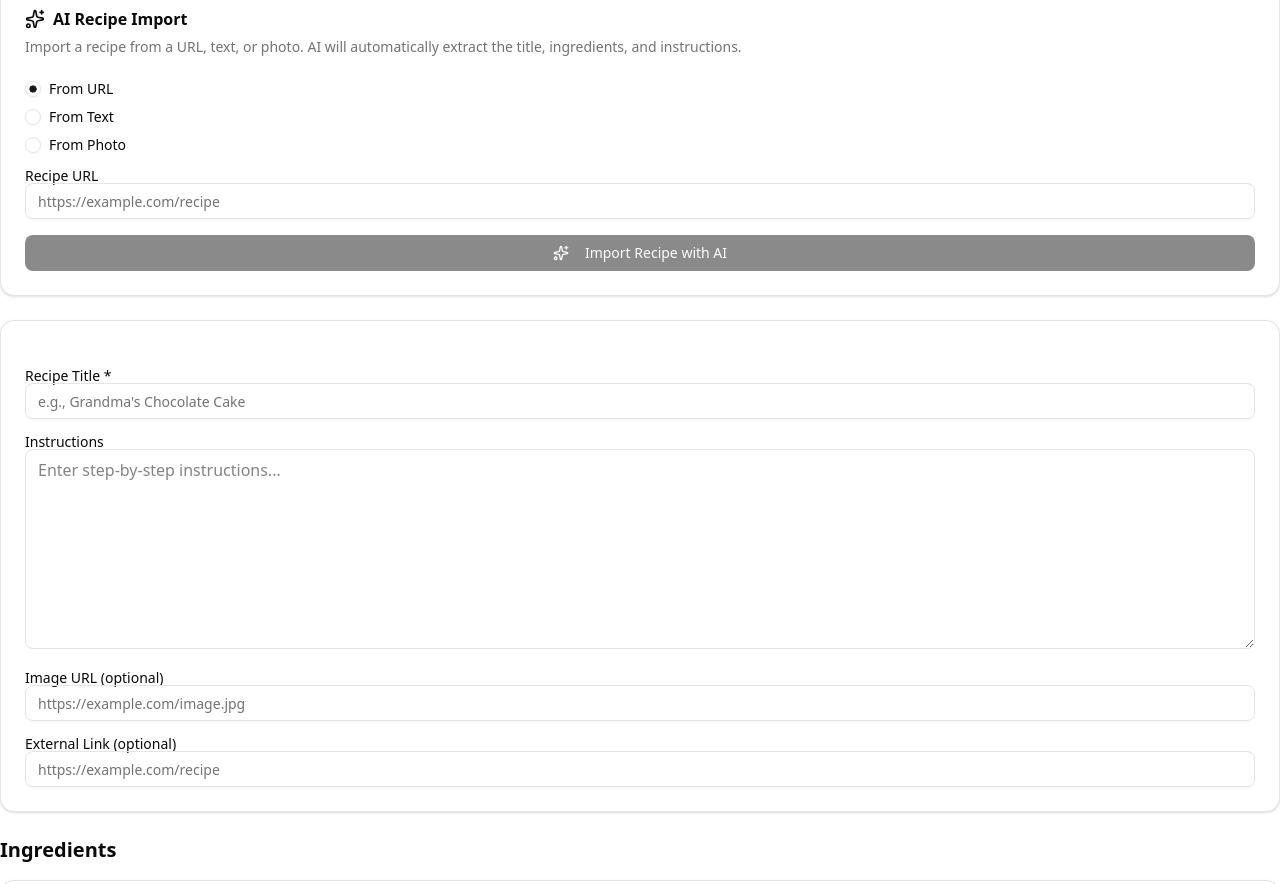
Test: RecipeForm › Error Handling › shows loading state when saving recipe
Type "Test Recipe" into the field labelled "Recipe Title *" at (640, 401), box [25,383,1255,419]
(page scrolled)
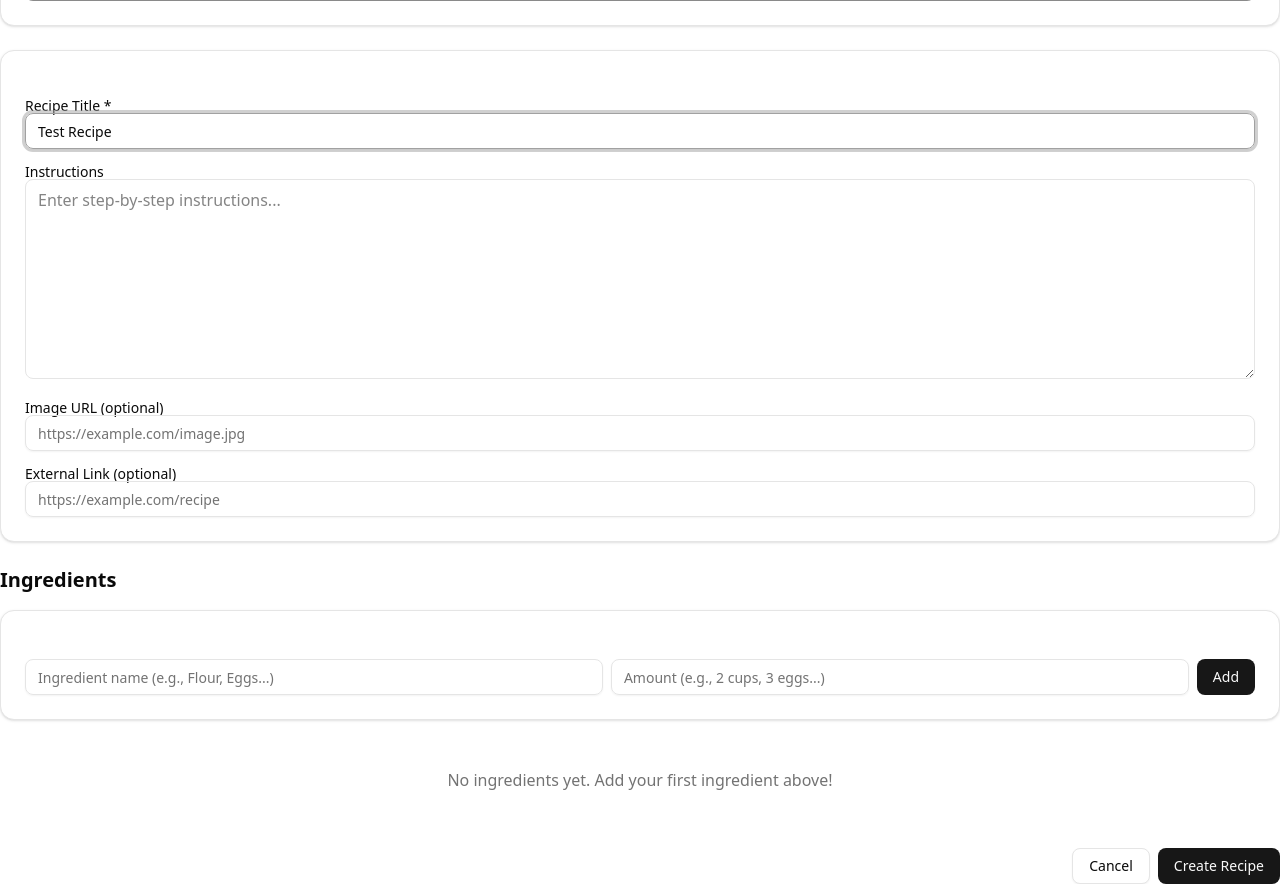
Click the button "Create Recipe" at (1219, 866), box [1158,848,1279,883]
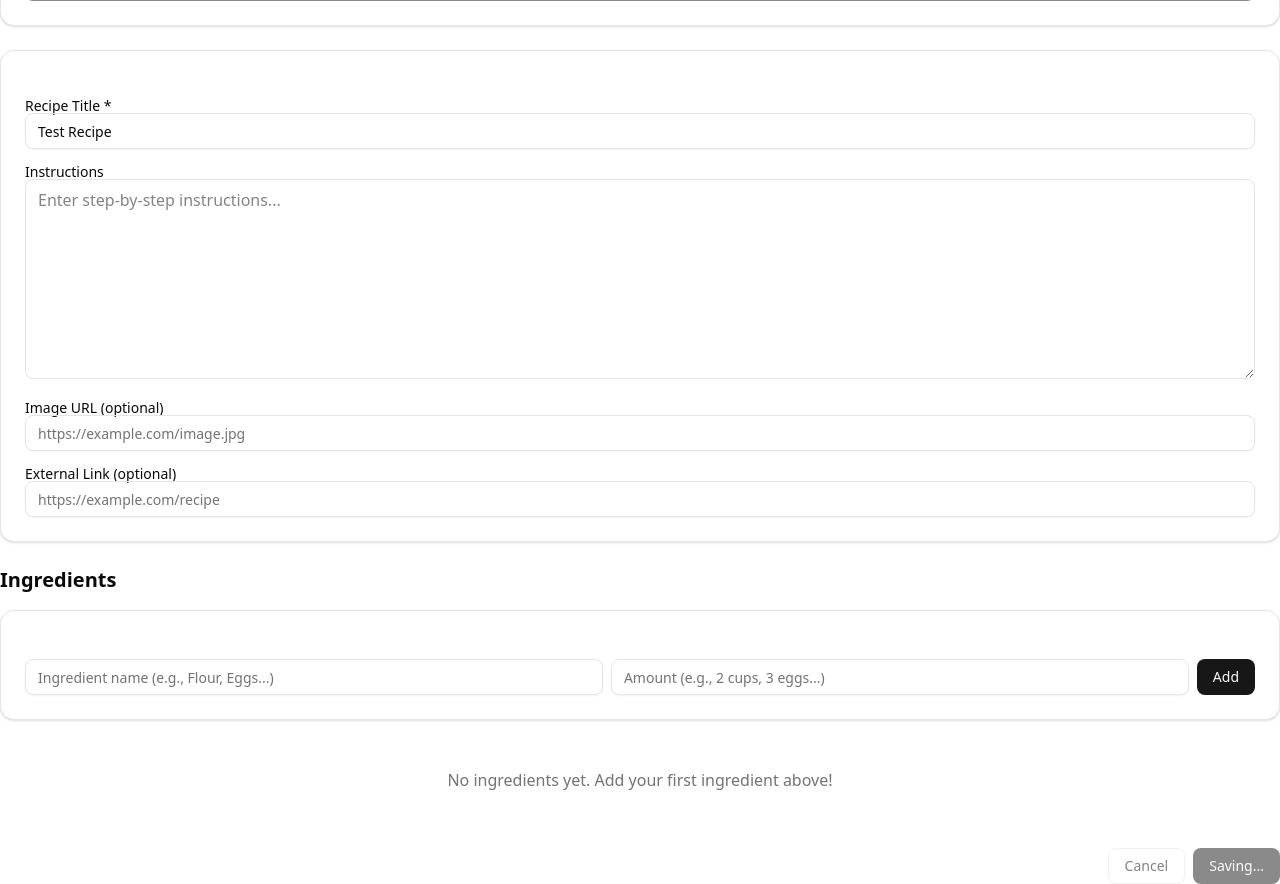
Result: the button "Saving..." is shown at [1193,848,1279,883]
